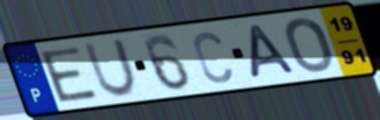6: (142, 32, 193, 93)
A: (248, 22, 299, 81)
C: (191, 29, 235, 86)
E: (37, 44, 101, 104)
O: (282, 15, 336, 75)
U: (82, 37, 141, 99)
